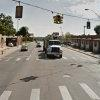Car: (19, 43, 32, 55)
